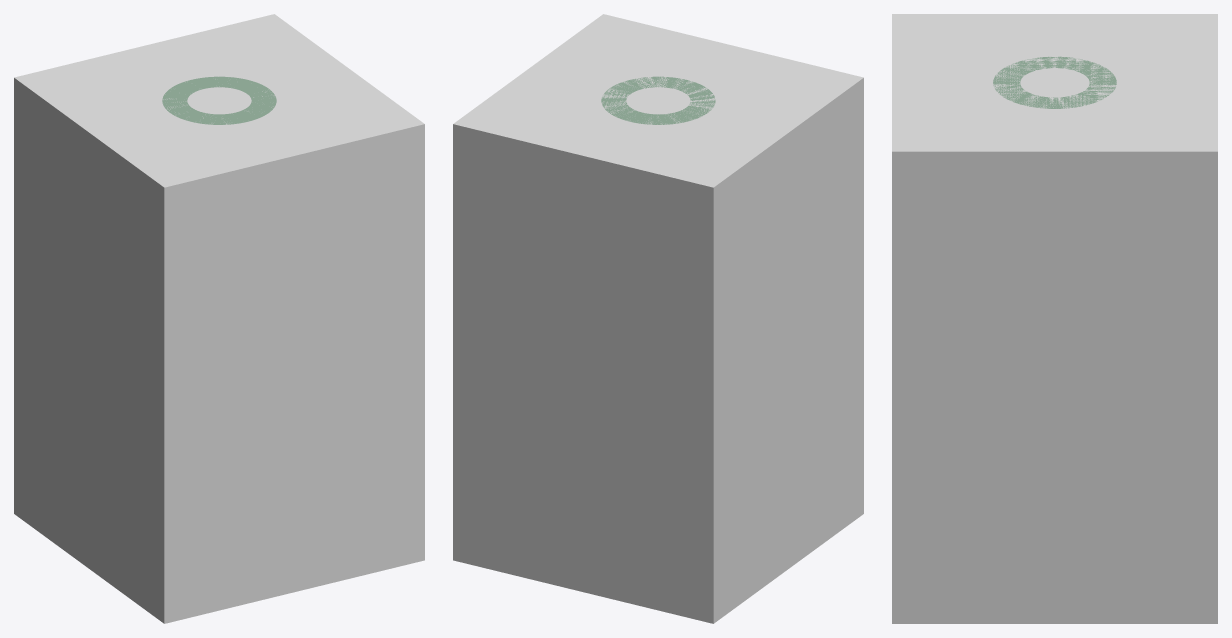
File: narrow_vase.glb
3 renders of one model, left to right at view 1: azimuth 30°, elevation 25°; view 2: azimuth 150°, elevation 25°; view 3: azimuth 270°, elevation 25°, orthographic. The views are drawn at different scales.
Visible parts, largest first — view 1: Vase_COL, narrow-neck-vase_0; view 2: Vase_COL, narrow-neck-vase_0; view 3: Vase_COL, narrow-neck-vase_0.
Part boxes in pixels (x1,y1,x2,y2): Vase_COL: (14,14,424,623); narrow-neck-vase_0: (162,76,276,124); Vase_COL: (453,14,863,623); narrow-neck-vase_0: (601,76,715,124); Vase_COL: (892,14,1217,623); narrow-neck-vase_0: (993,56,1116,108).
Size of the model in its own units: 0.3 by 0.48 by 0.3.
